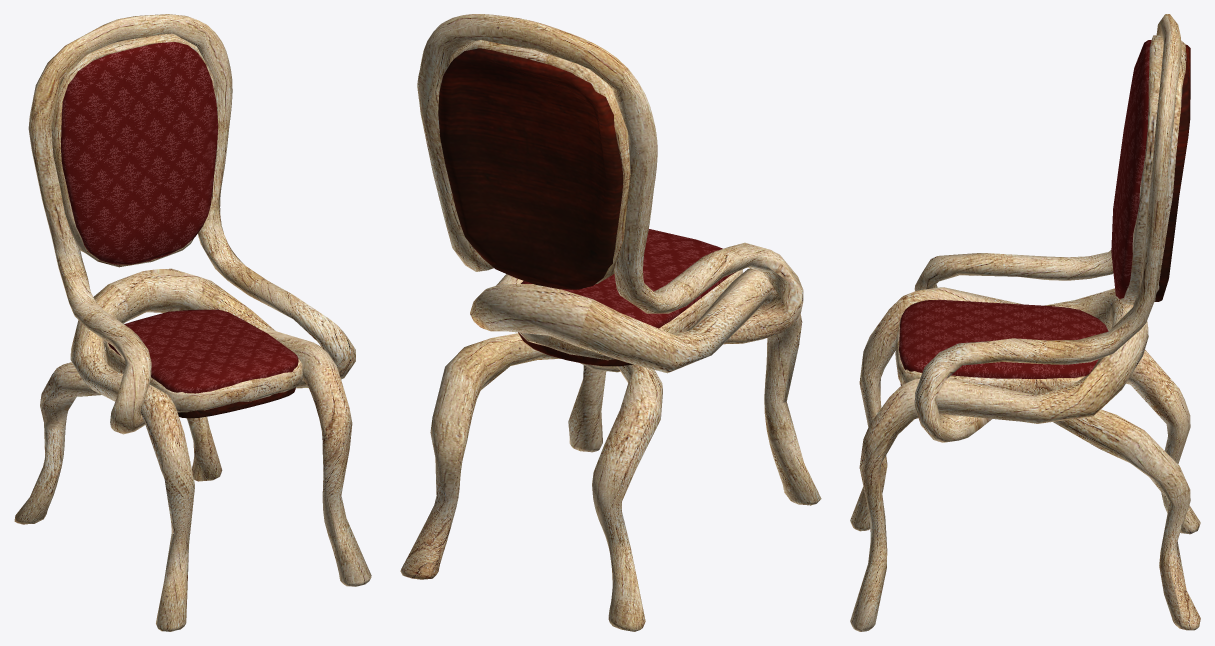
File: Wooden_chair_with_red_fabric.FBX
3 views of the same model, side by side, from view 1: azimuth 30°, elevation 25°; view 2: azimuth 150°, elevation 25°; view 3: azimuth 270°, elevation 25° (orthographic). The views are drawn at different scales.
Parts seen in each view (by area): view 1: Wooden_chair_with_red_fabric_LOD0; view 2: Wooden_chair_with_red_fabric_LOD0; view 3: Wooden_chair_with_red_fabric_LOD0.
Boxes of the visible parts, <box> form: Wooden_chair_with_red_fabric_LOD0: <box>14,14,371,631</box>; Wooden_chair_with_red_fabric_LOD0: <box>400,14,821,631</box>; Wooden_chair_with_red_fabric_LOD0: <box>850,14,1200,631</box>.
Size of what is drawn, in the model's own units: 38 by 72.15 by 42.21.
Materials: 1 (1 with a texture image).
